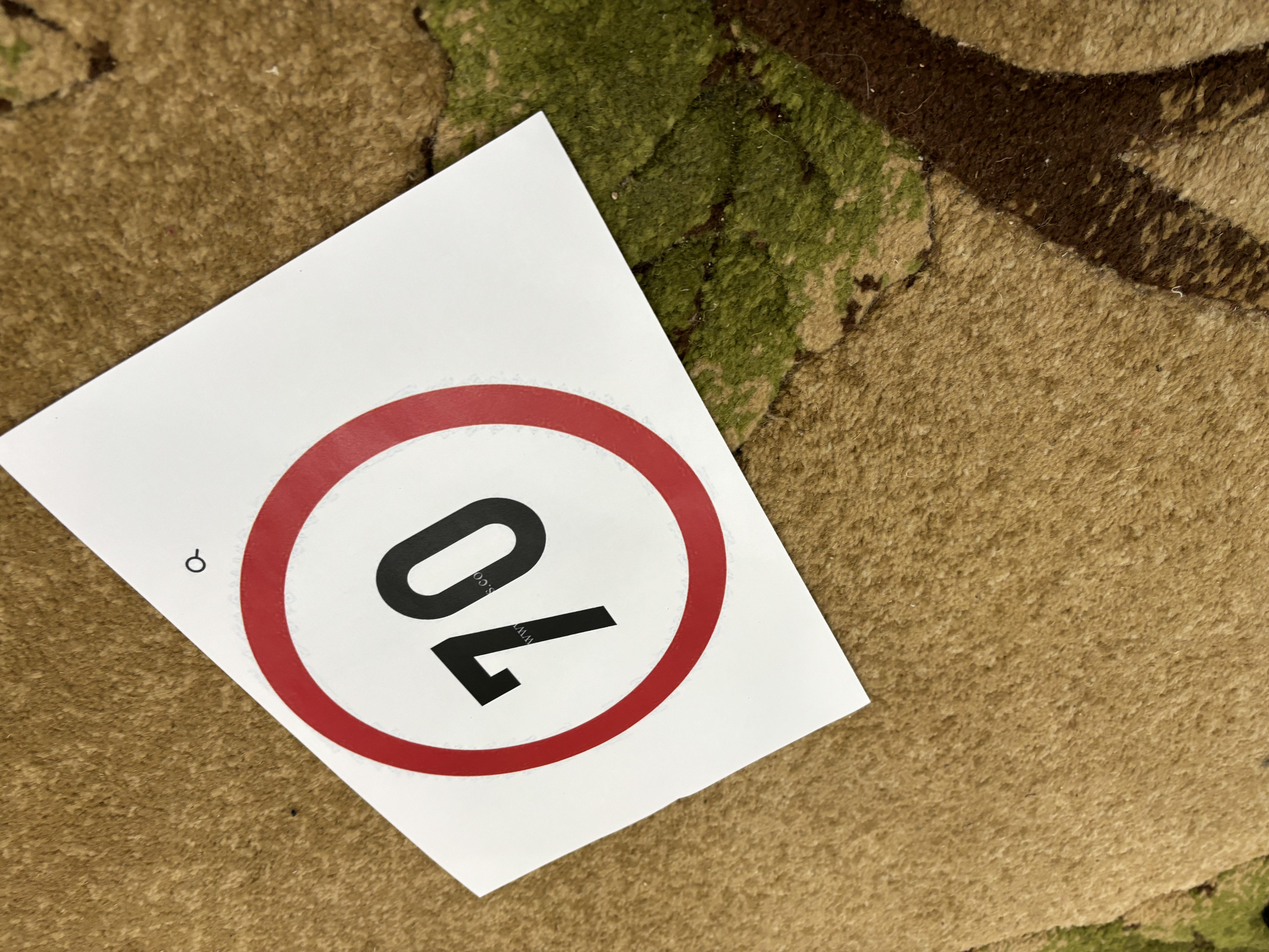70-Speed: (238, 378, 727, 780)
